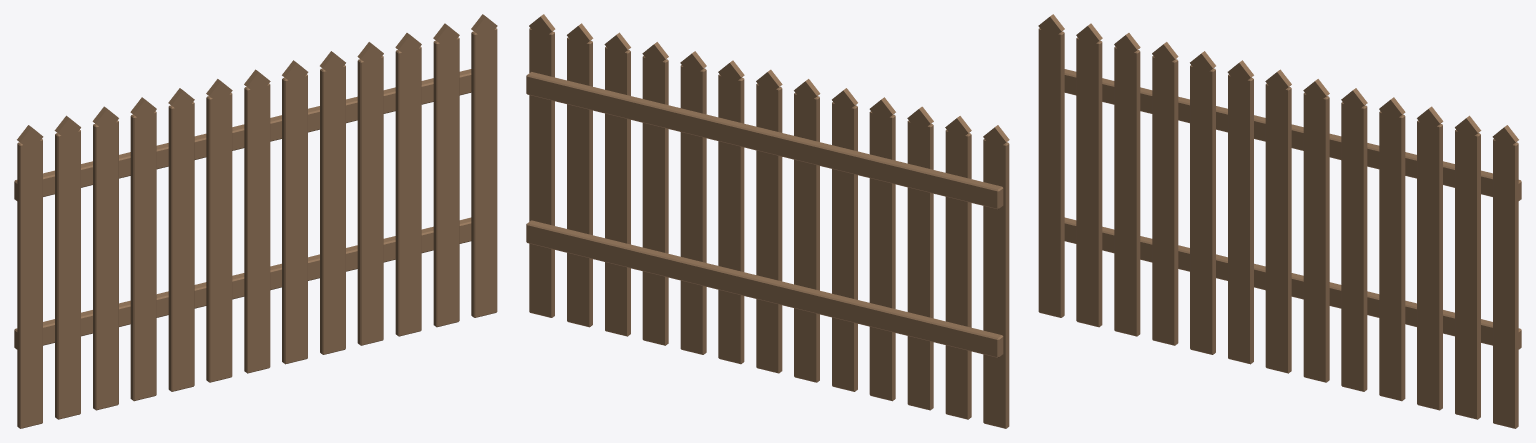
Rendered from fence_segment.fbx.
The picture shows the model from 3 angles, left to right: view 1: azimuth 30°, elevation 25°; view 2: azimuth 150°, elevation 25°; view 3: azimuth 330°, elevation 25°; orthographic projection.
Parts seen in each view (by area): view 1: Fence; view 2: Fence; view 3: Fence.
Part boxes in pixels (x1,y1,x2,y2): Fence: [14, 14, 497, 428]; Fence: [526, 14, 1009, 428]; Fence: [1038, 14, 1521, 428].
Bounding box in the file's own units: 2.02 × 1.21 × 0.065.
